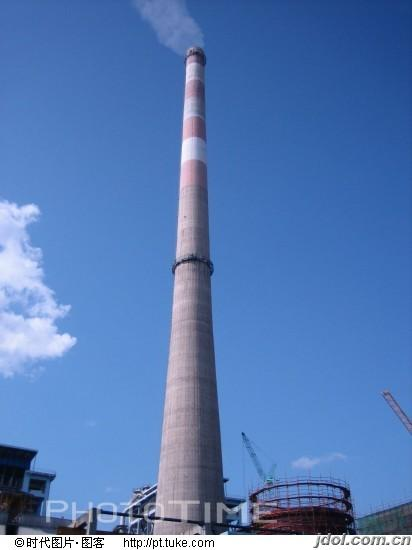dust: (131, 1, 238, 72)
